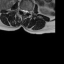CCS_normal: (23, 7, 25, 16)
LFS_normal: (27, 8, 30, 15)
LLS_normal: (25, 7, 27, 14)
RFS_normal: (20, 6, 22, 12)
RLS_normal: (22, 7, 23, 14)
